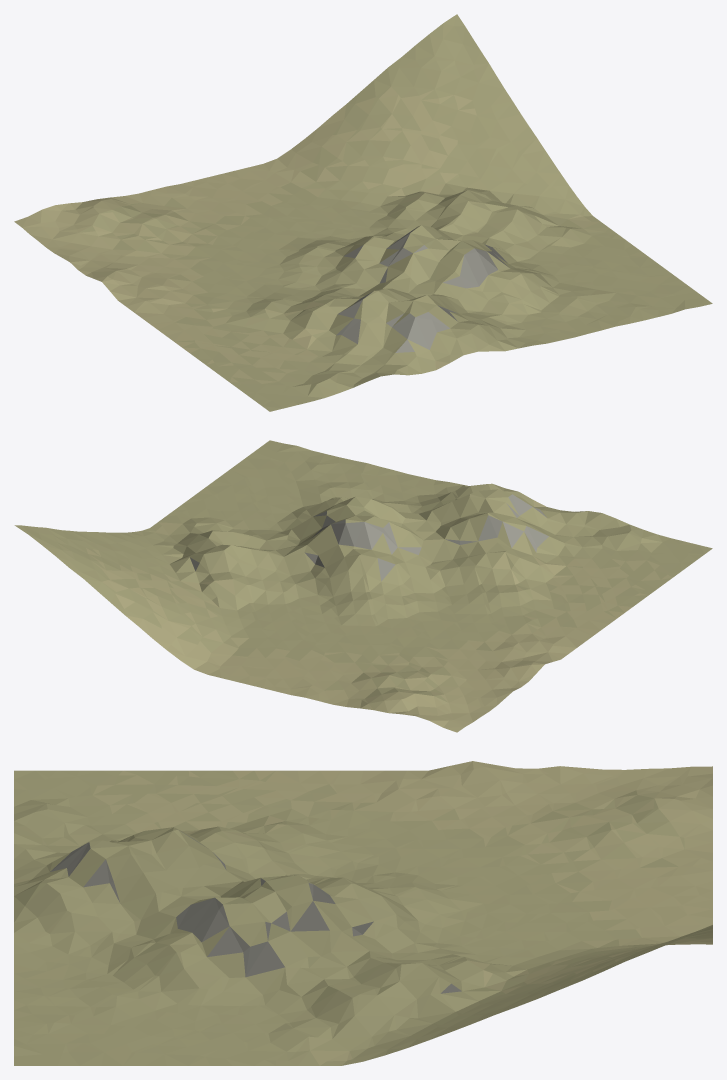
Rendered from Ground_2_2.glb.
The picture shows the model from 3 angles, top to bottom: view 1: azimuth 30°, elevation 25°; view 2: azimuth 150°, elevation 25°; view 3: azimuth 270°, elevation 25°; orthographic projection. The views are drawn at different scales.
Parts seen in each view (by area): view 1: Ground_2_2; view 2: Ground_2_2; view 3: Ground_2_2.
Boxes of the visible parts, x1,y1,x2,y2 form: Ground_2_2: [14, 14, 712, 411]; Ground_2_2: [14, 440, 712, 732]; Ground_2_2: [14, 761, 712, 1065].
Bounding box in the file's own units: 768 × 170 × 768.
